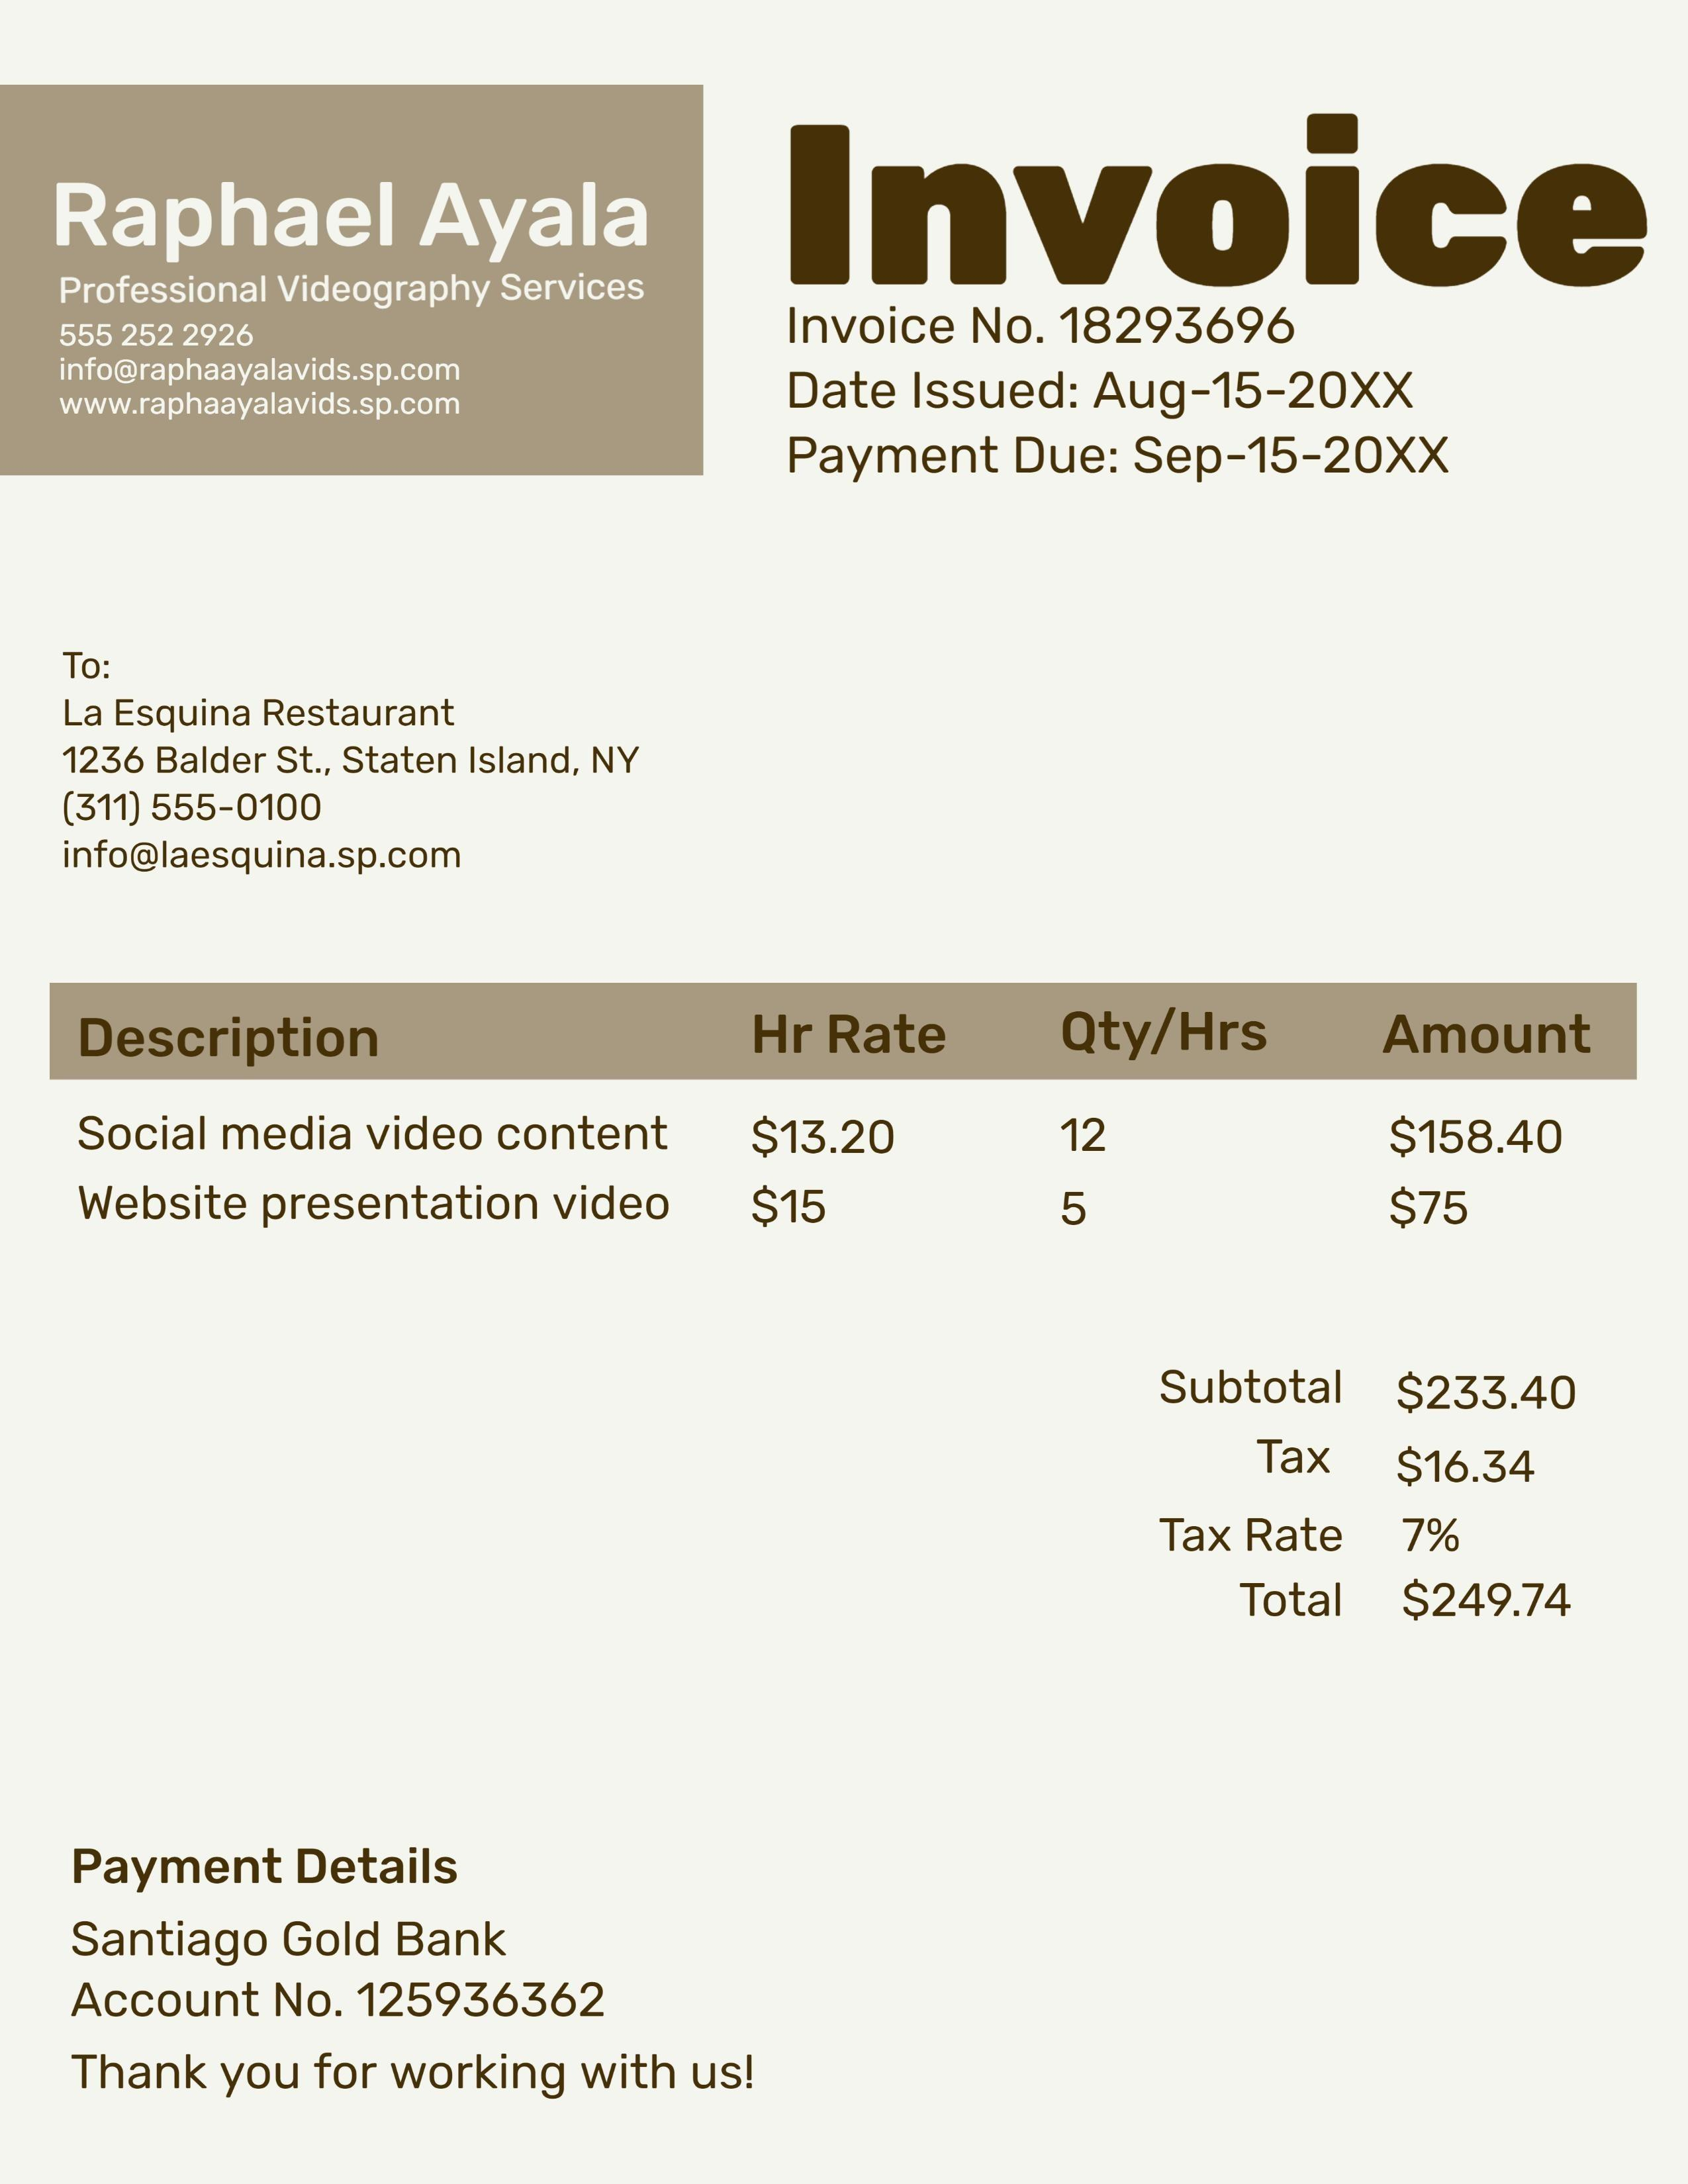ROI: (70, 979, 1623, 1234), (70, 1829, 778, 2119), (36, 152, 657, 432), (48, 629, 651, 872), (785, 306, 1460, 497), (1138, 1356, 1597, 1633)
